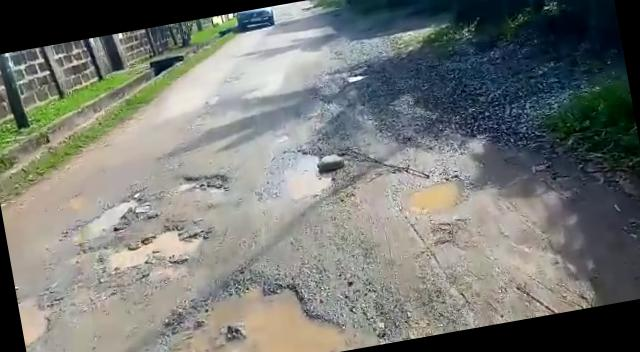pothole: (148, 258, 388, 352), (93, 213, 215, 275), (56, 186, 154, 253), (258, 143, 336, 204), (394, 175, 470, 222), (16, 290, 58, 348), (173, 166, 233, 198)
